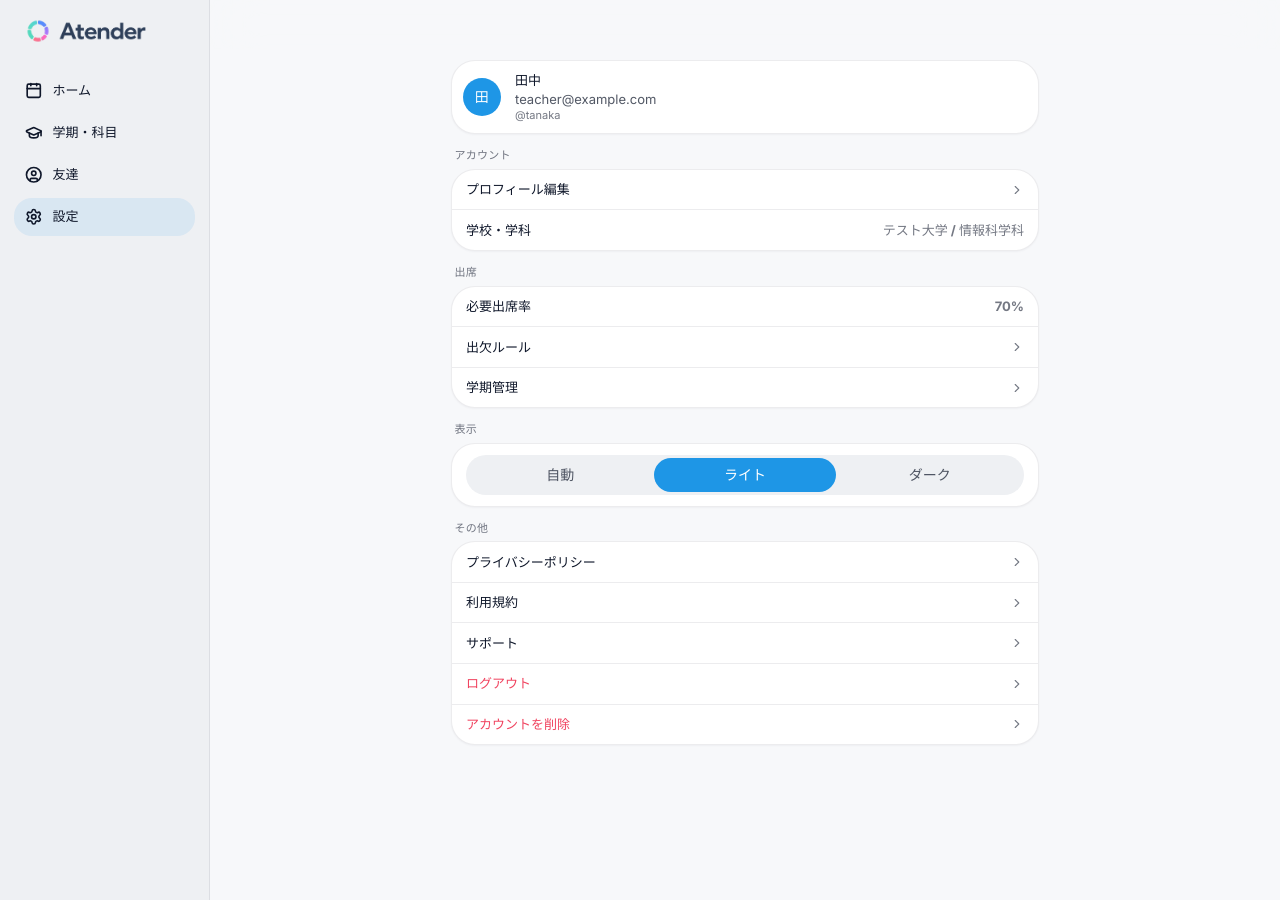
Test: [T] template browser (entry E1) › [T4b] department stage has no 学科を追加
Click the button "学期管理": coordinates (492, 387) [452, 368, 1038, 407]
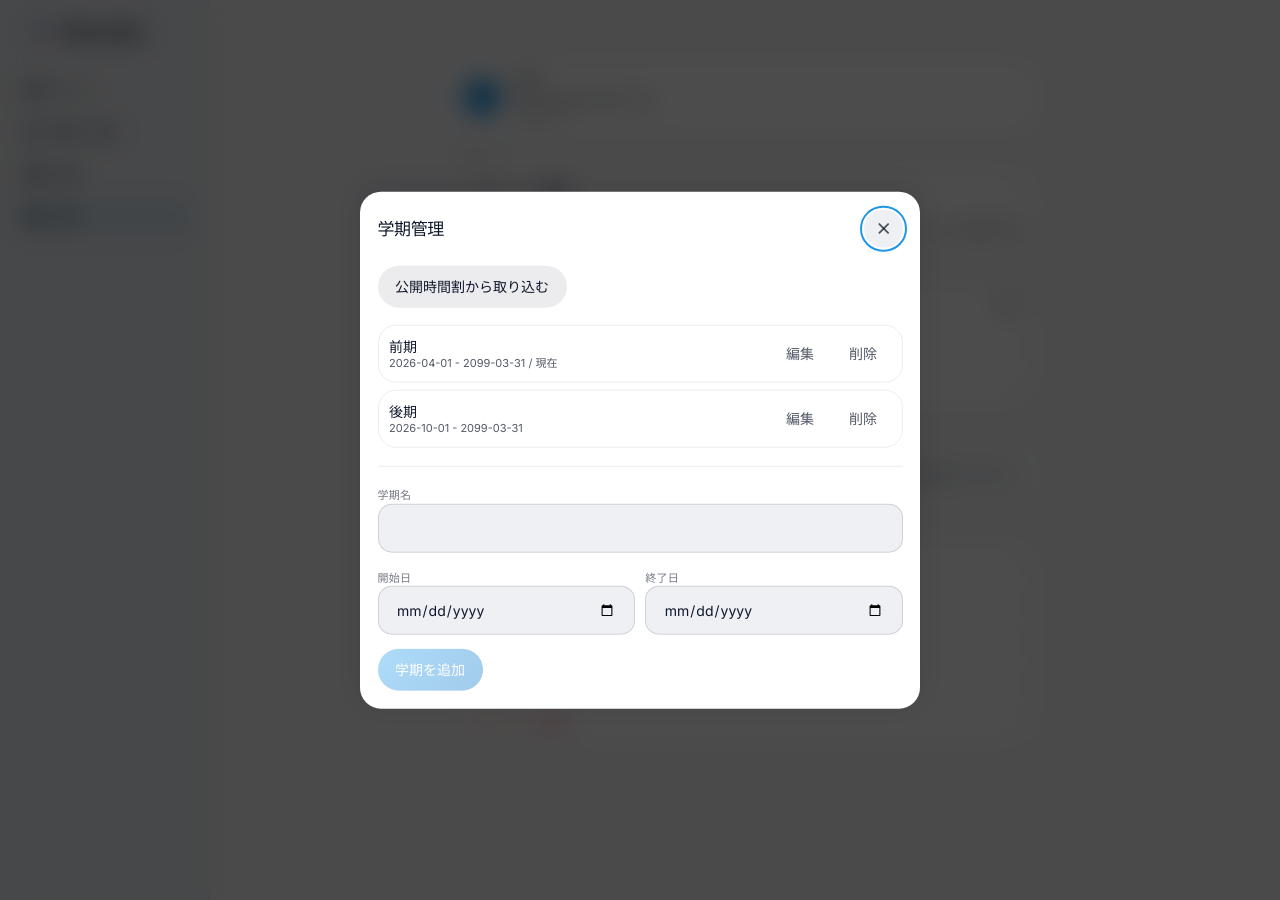
Result: the button with test id "semester-list-import-template" is enabled
Click the button with test id "semester-list-import-template": coordinates (472, 286) [378, 265, 566, 307]
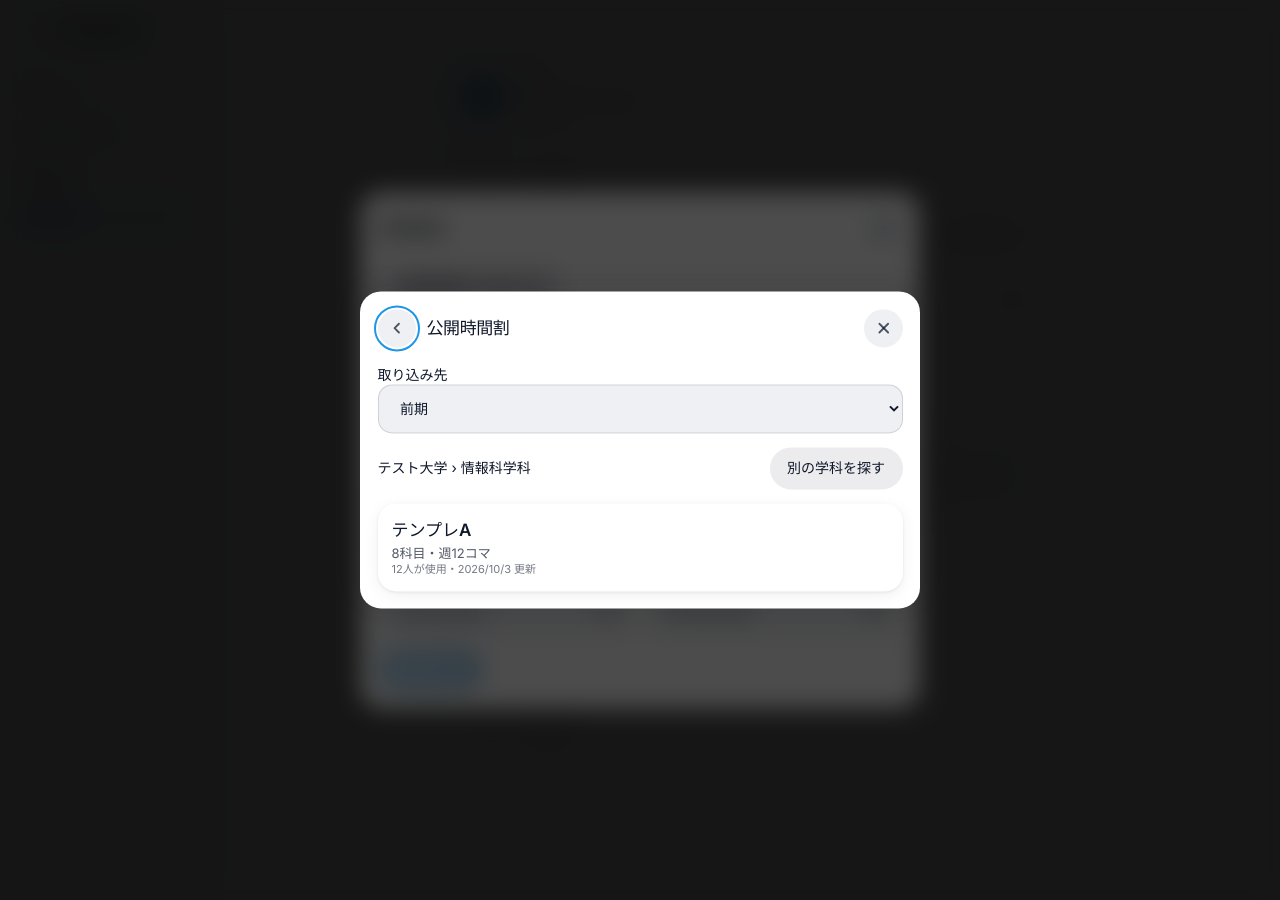
Result: the heading "公開時間割" is shown at [426, 315, 509, 341]
Click the button with test id "template-browse-other": coordinates (836, 468) [770, 448, 902, 490]
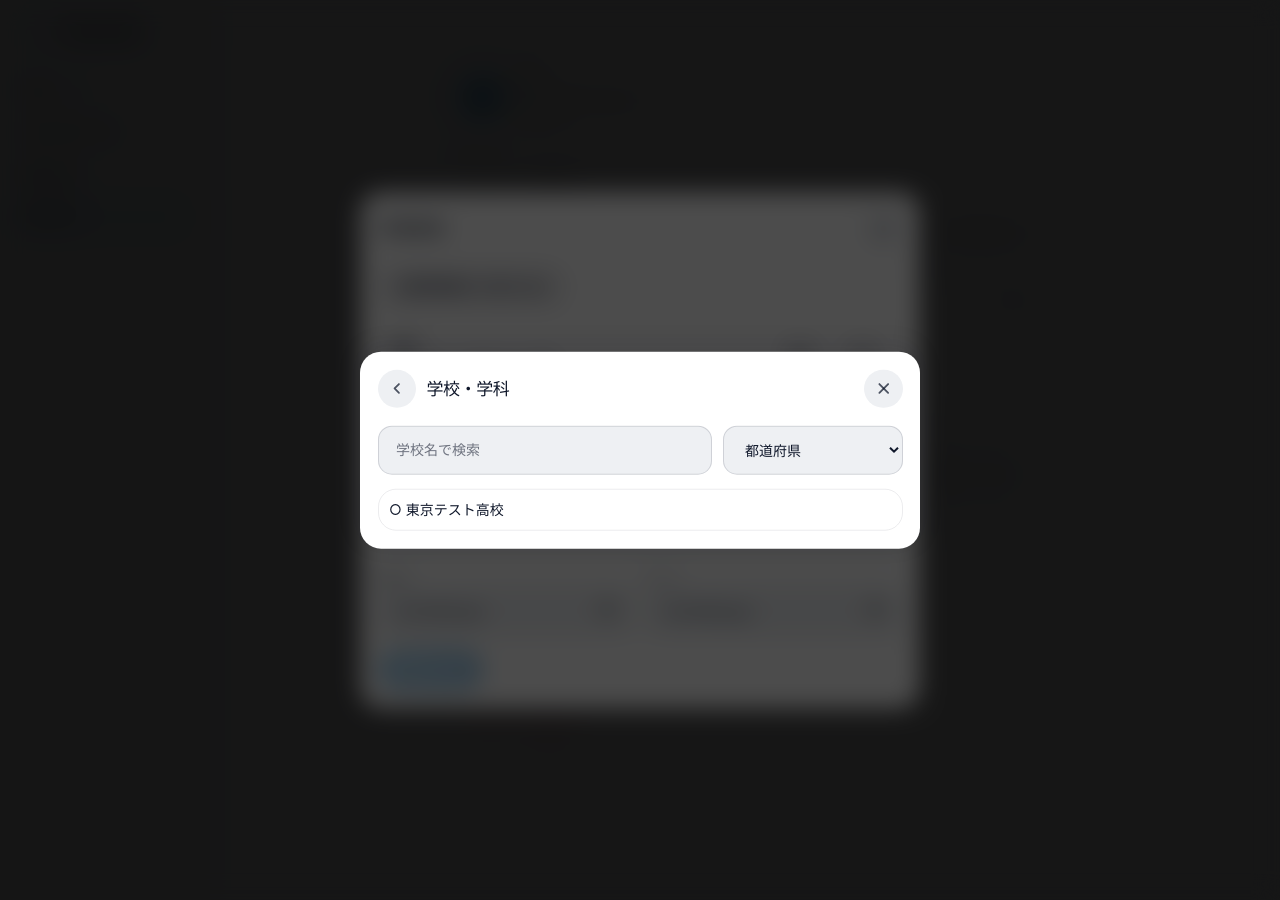
Click the button "○ 東京テスト高校": coordinates (455, 509) [378, 488, 902, 531]
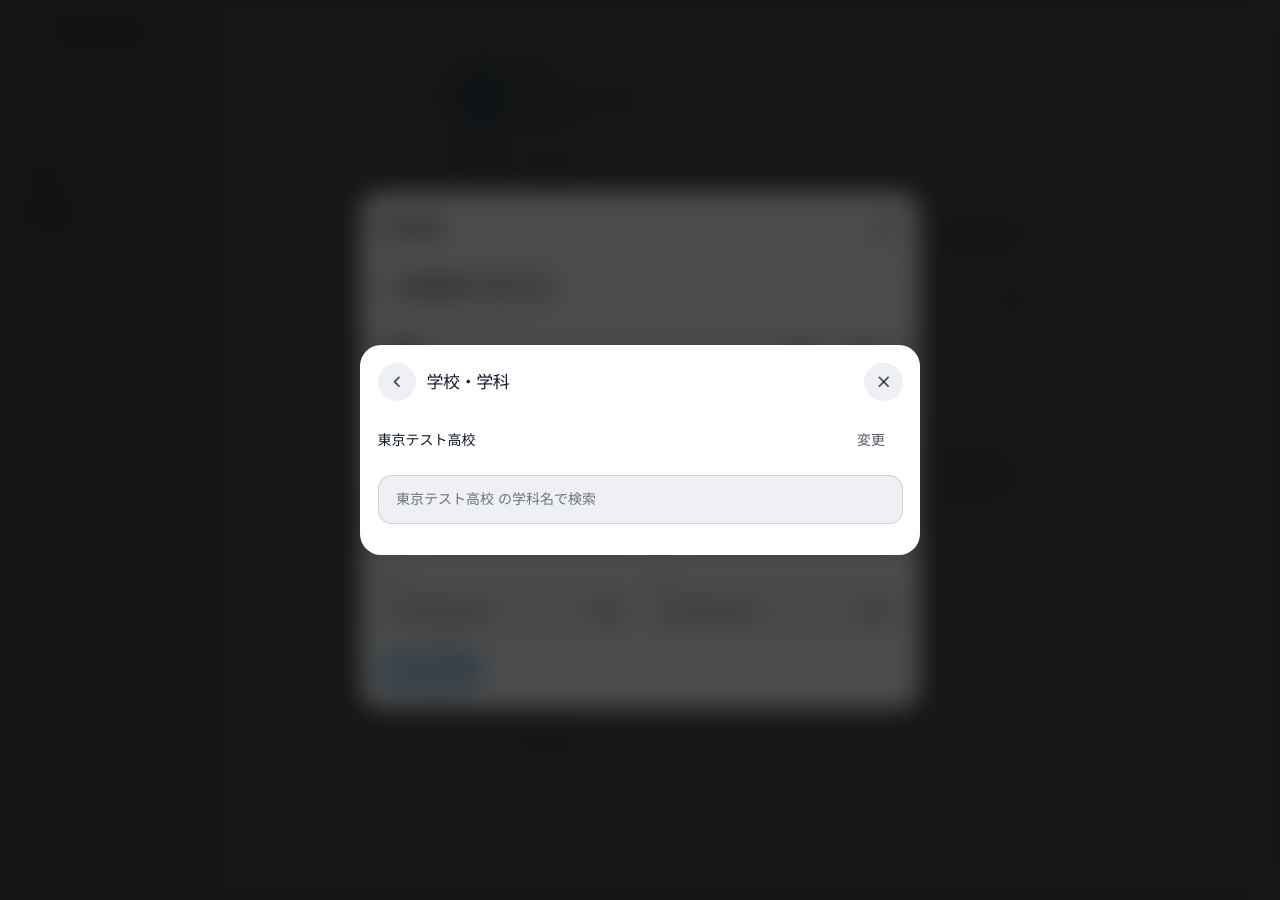
Result: the field with placeholder "東京テスト高校 の学科名で検索" is shown at [378, 474, 902, 524]
